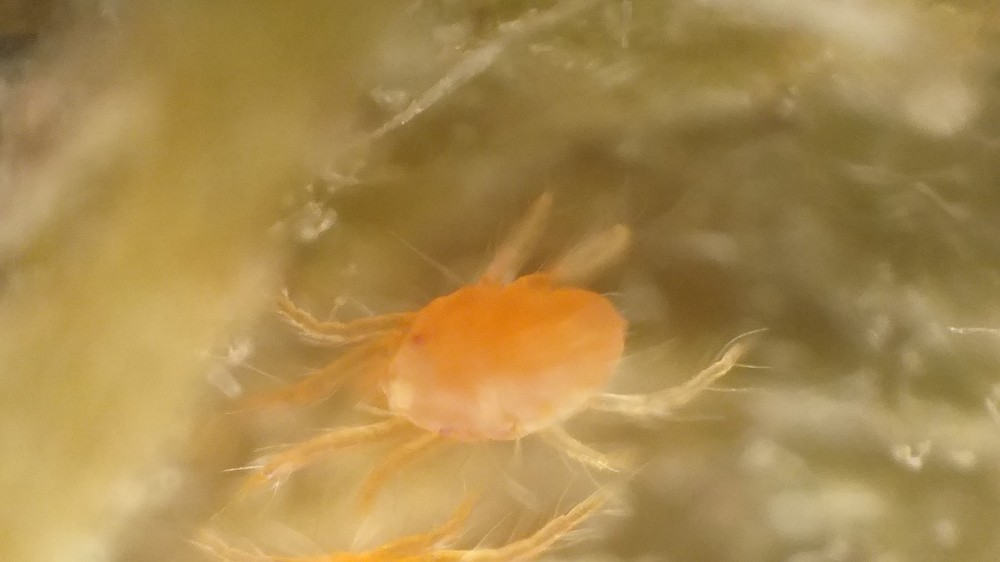Aracnido Rojo: (219, 204, 799, 486)
